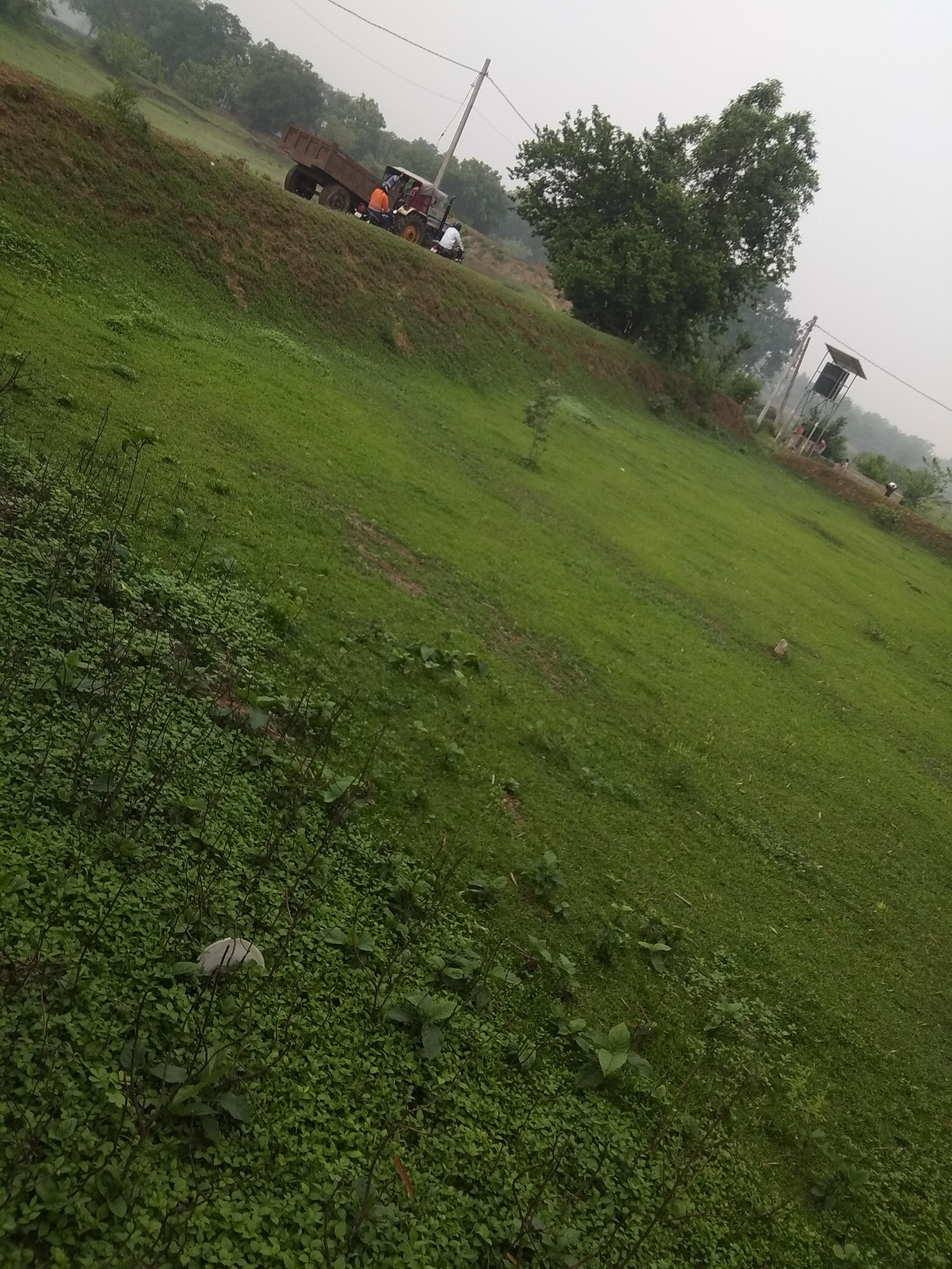non-ambulance: (239, 90, 505, 311)
